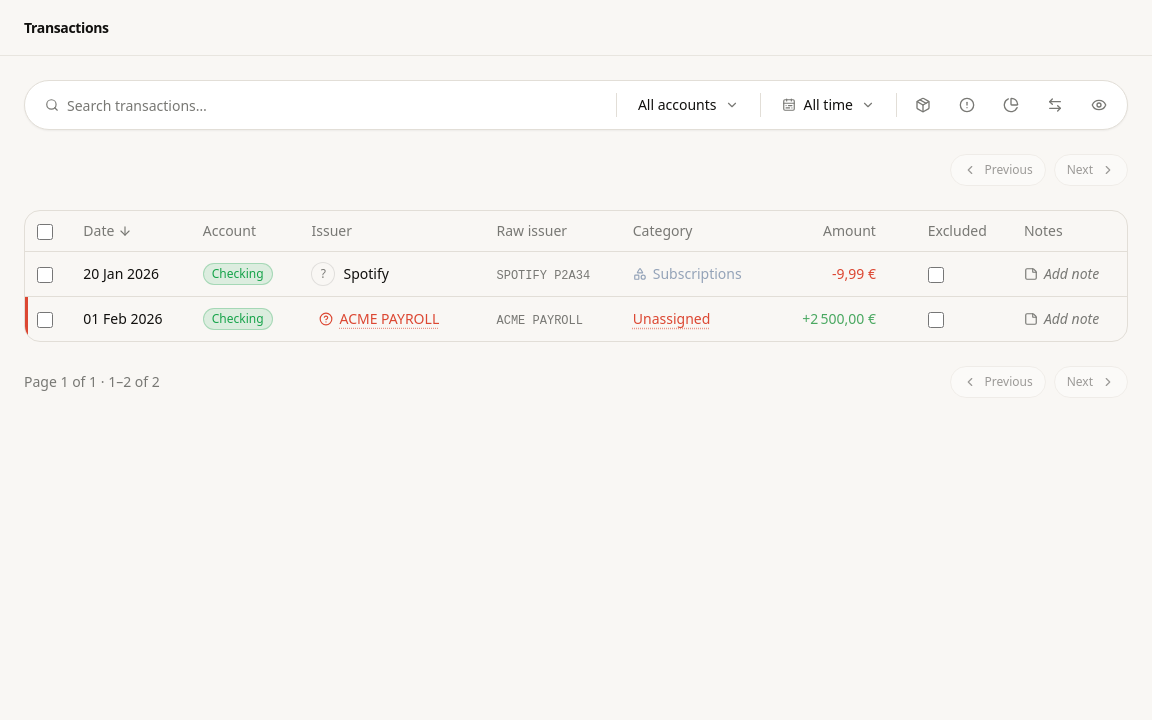
Test: TransactionsView › selects and clears every row on the page from the header checkbox
expect the button "ACME PAYROLL" is shown: met, box [312, 306, 447, 330]
Click the checkbox named "select all rows on this page". click: (45, 232)
box: [37, 224, 53, 240]
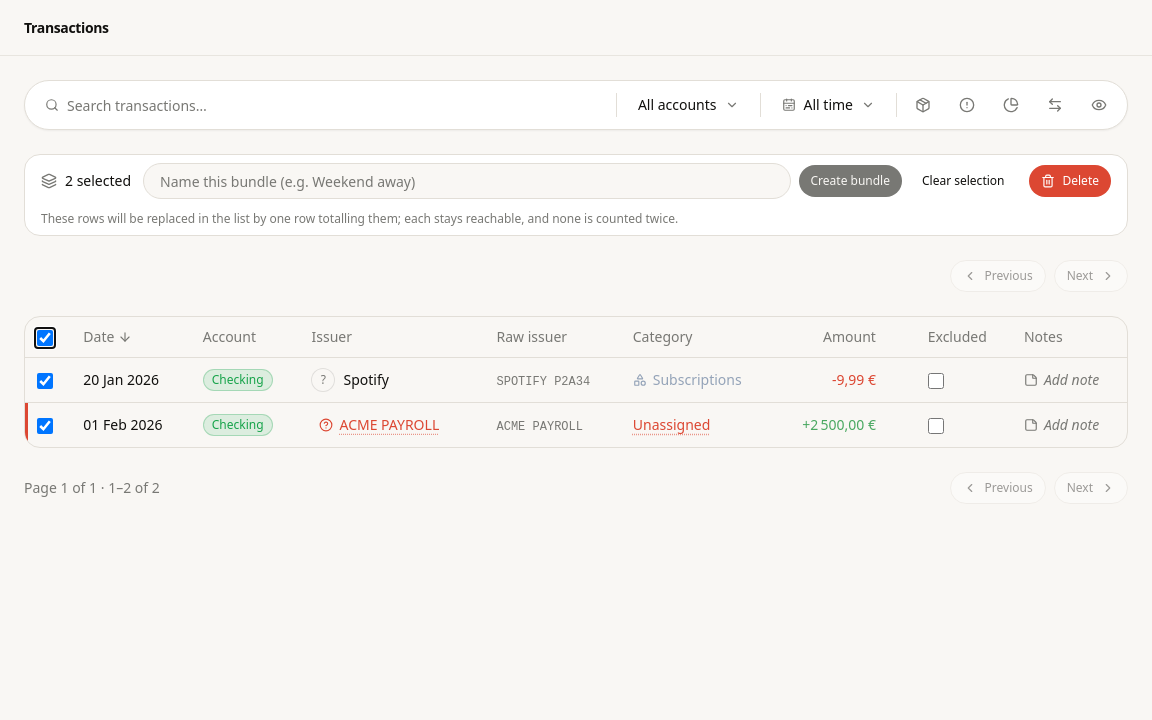
expect the text "2 selected" is shown: met, box [41, 171, 131, 191]
Click the button "Clear selection". click: (963, 181)
box: [910, 165, 1016, 197]
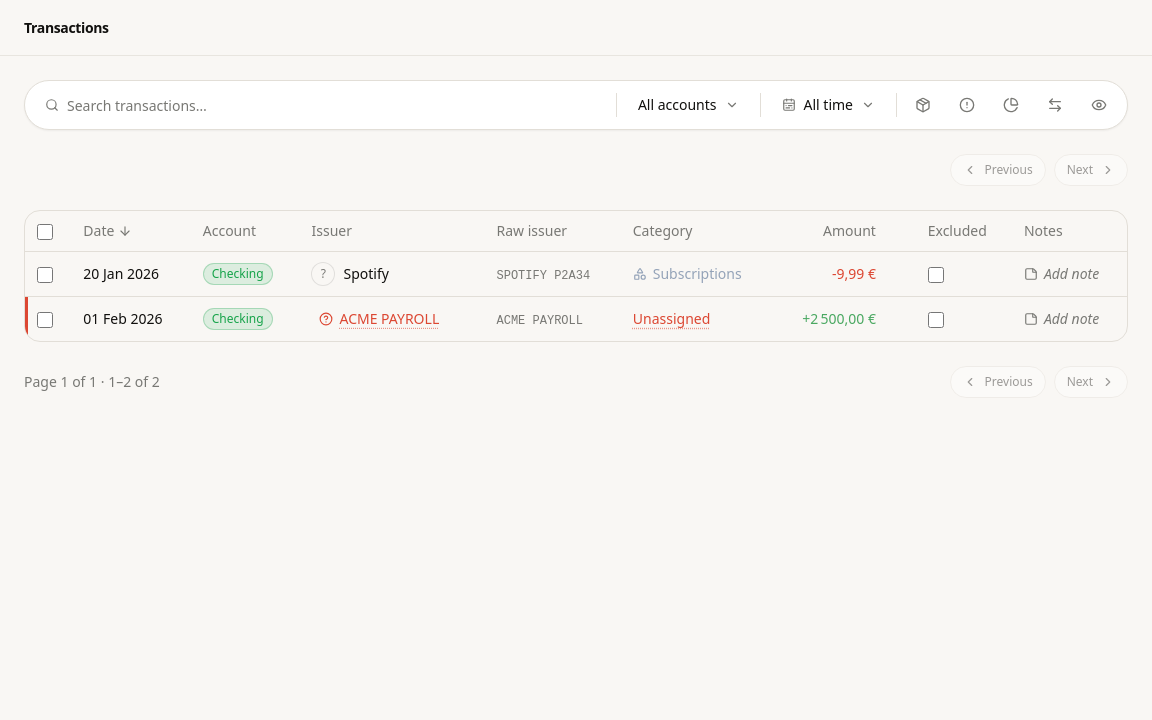
expect the checkbox named "select all rows on this page" is not checked: met, box [37, 224, 53, 240]
expect the text "selected" is gone: met
